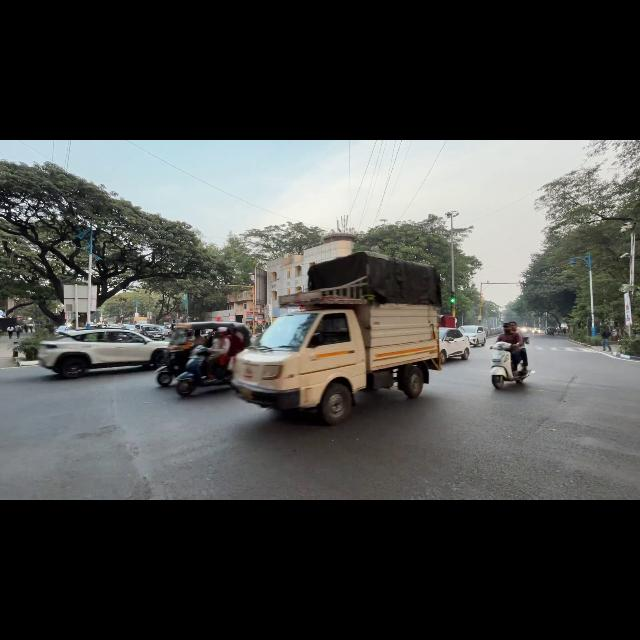car: (38, 328, 168, 378), (439, 328, 470, 363), (458, 325, 486, 346), (140, 325, 164, 340)
motorcycle: (176, 359, 232, 396), (491, 342, 531, 389), (154, 366, 173, 386)
truck: (233, 252, 441, 424)
